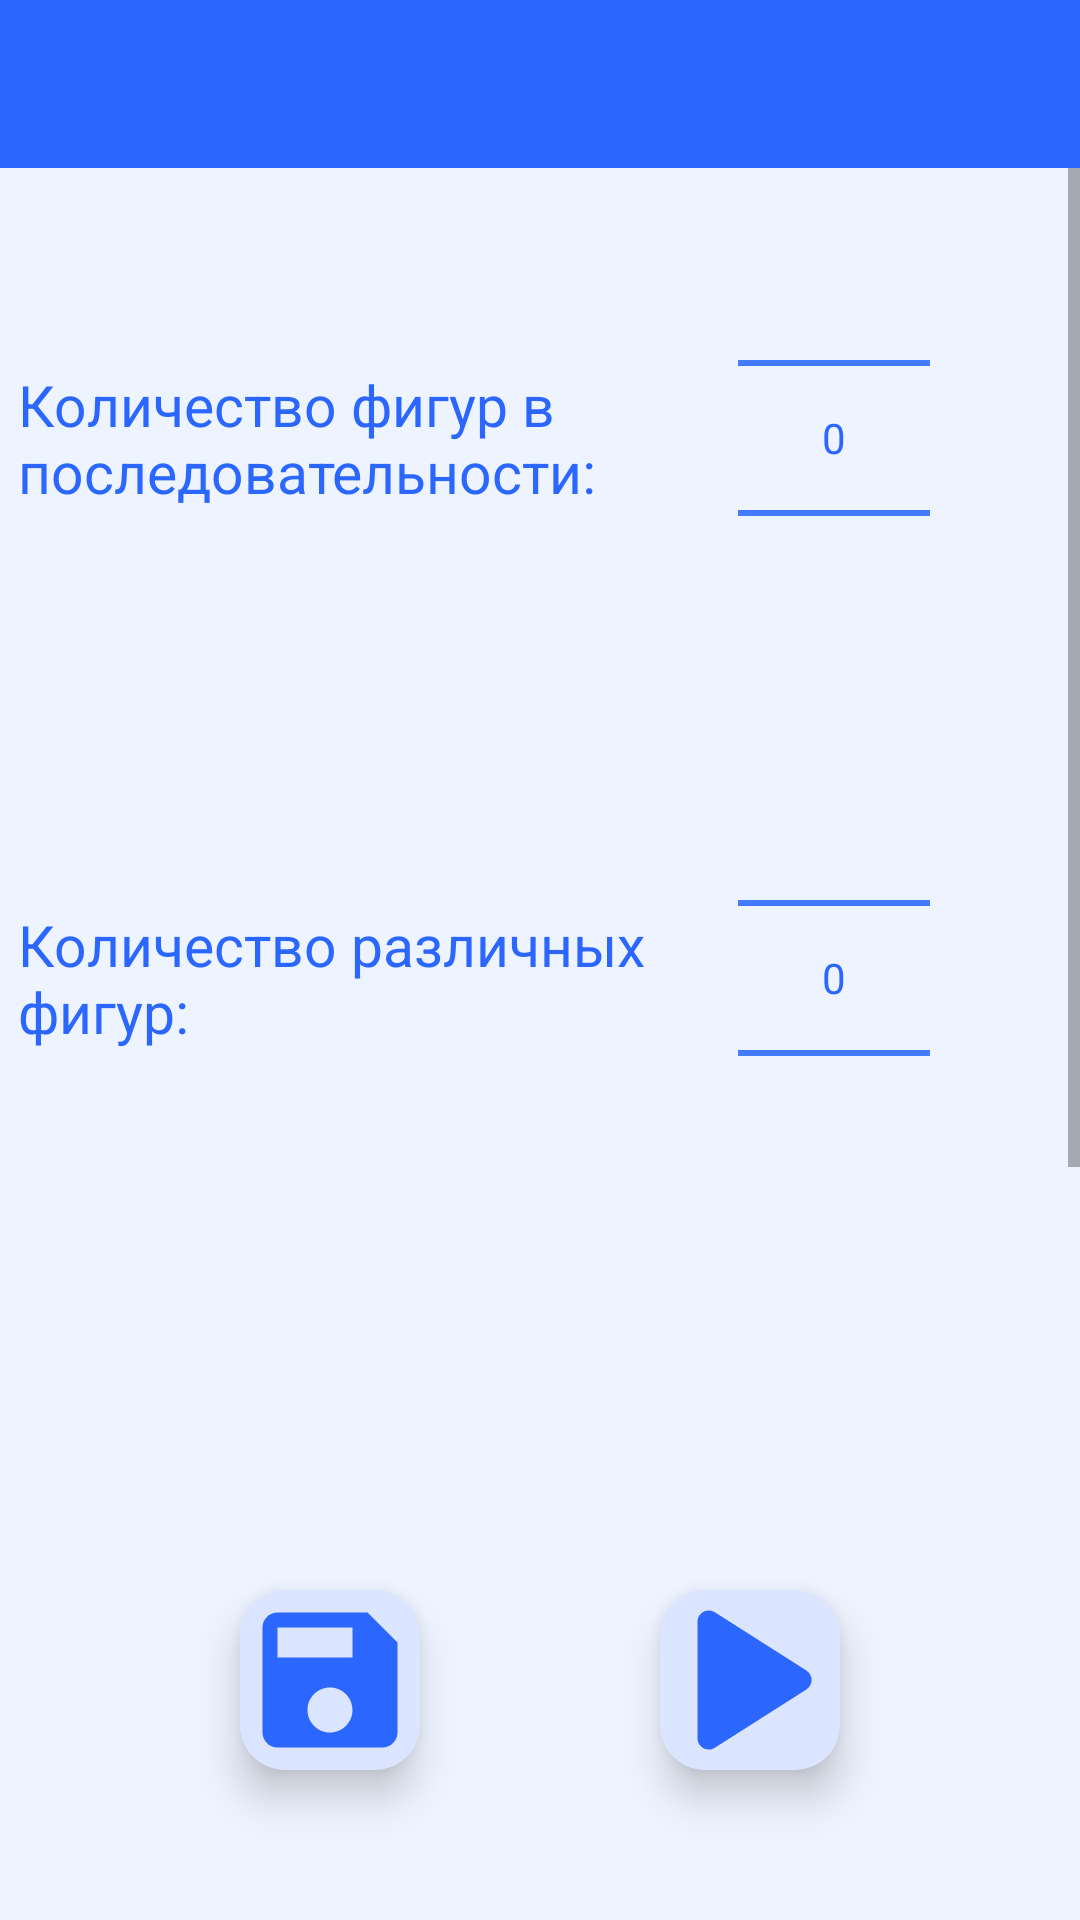

Where icons sit on this 1080 × 1920 app screen, as (x1,y1,x2,y2):
play arrow: (660,1590,840,1770)
save: (257,1612,398,1770)
